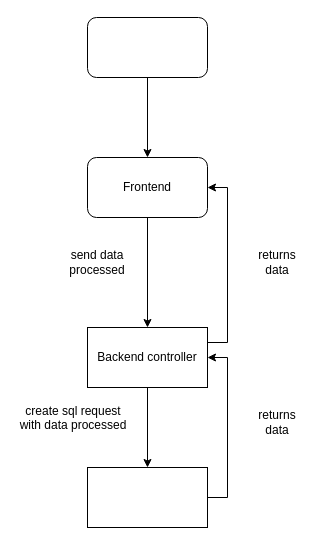
This 324x545 diagram has some shape labels left out. Here are the shapes that lost their labels. From the top down, the centre of each, then its label:
At (x=147, y=47): "User clicks on a button".
At (x=147, y=497): "DB".
